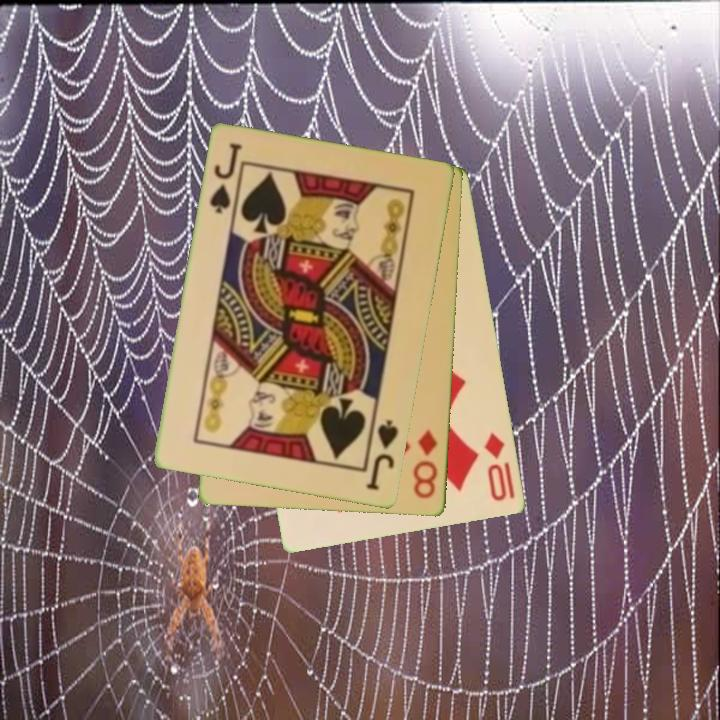10d: (481, 430, 511, 505)
8d: (410, 427, 441, 502)
Js: (206, 140, 245, 220), (363, 416, 402, 494)
